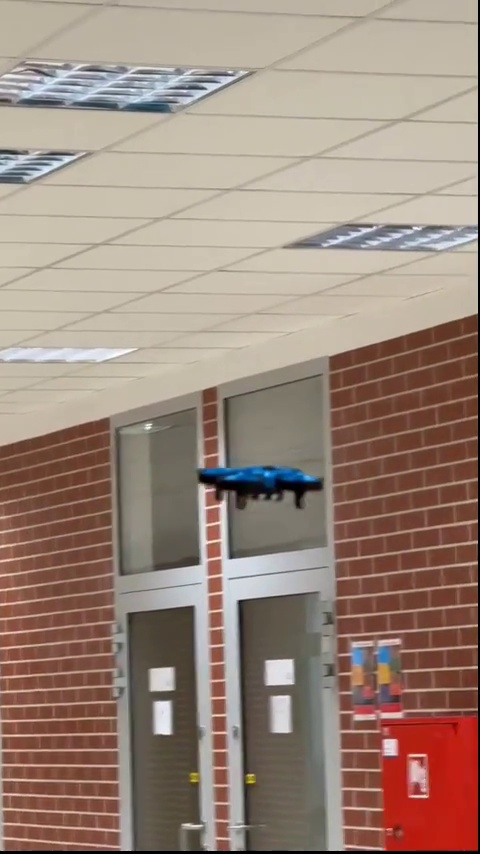drone: (199, 462, 321, 509)
